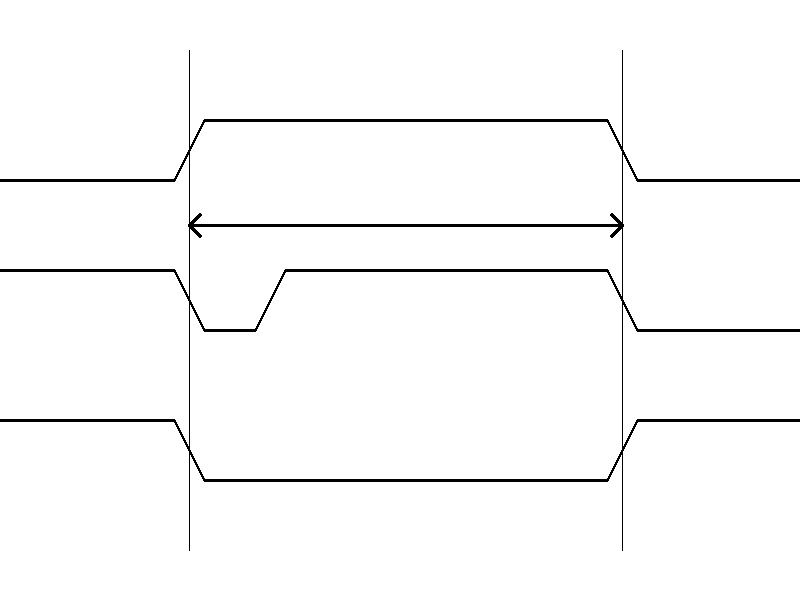double_arrow: (189, 210, 622, 240)
